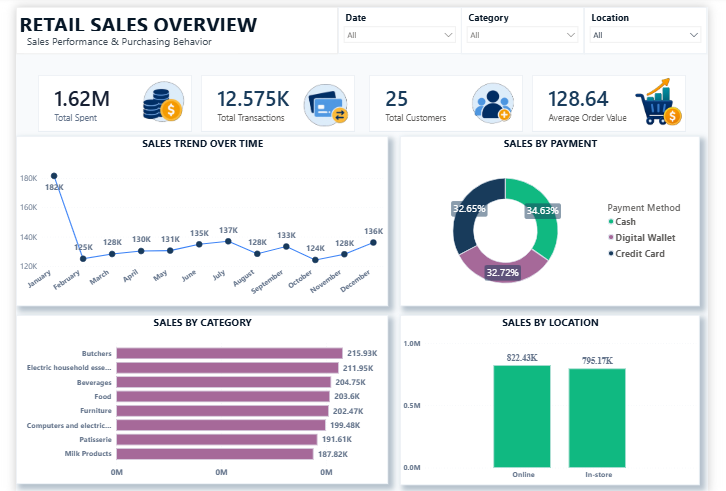

The dashboard page shown, as its layout file describes it:
{"tool":"powerbi","page":{"name":"Page 1","canvas":[1280,900],"ordinal":0},"visuals":[{"type":"cardVisual","fields":{"Data":["retail_cleaned.Total Spent Measure"]},"box":[40.7,125.9,285,105],"z":0},{"type":"cardVisual","fields":{"Data":["retail_cleaned.Total Transactions"]},"box":[342.6,125.9,285,105],"z":1000},{"type":"cardVisual","fields":{"Data":["retail_cleaned.Total Customers"]},"box":[653.7,125.9,285,105],"z":2000},{"type":"cardVisual","fields":{"Data":["retail_cleaned.Average Order Value"]},"box":[955.6,125.9,285,105],"z":3000},{"type":"lineChart","title":"SALES TREND OVER TIME","fields":{"Y":["retail_cleaned.Total Spent Measure"],"Category":["retail_cleaned.Transaction Date.Variation.Date Hierarchy.Month"]},"box":[0,238.3,689.4,314.9],"z":4000},{"type":"barChart","title":"SALES BY CATEGORY","fields":{"Category":["retail_cleaned.Category"],"Y":["Sum(retail_cleaned.Total Spent)"]},"box":[0,570.2,689.4,312.8],"z":5000},{"type":"donutChart","title":"SALES BY PAYMENT","fields":{"Y":["retail_cleaned.Total Spent Measure"],"Category":["retail_cleaned.Payment Method"]},"box":[710.6,238.3,555.3,314.9],"z":6000},{"type":"columnChart","title":"SALES BY LOCATION","fields":{"Category":["retail_cleaned.Location"],"Y":["retail_cleaned.Total Spent Measure"]},"box":[710.6,570.2,555.3,314.9],"z":7000},{"type":"textbox","box":[0,0,595.7,87.2],"z":8000},{"type":"textbox","box":[14.3,44.6,396.4,41.1],"z":9000},{"type":"slicer","title":"Date","fields":{"Values":["retail_cleaned.Transaction Date"]},"box":[596.2,0,228.8,86.5],"z":10000},{"type":"slicer","fields":{"Values":["retail_cleaned.Category"]},"box":[824.1,0,227.8,87],"z":11000},{"type":"slicer","fields":{"Values":["retail_cleaned.Location"]},"box":[1051.9,0,227.8,87],"z":12000},{"type":"image","box":[183.3,124.1,183.3,105.6],"z":13000},{"type":"image","box":[470.4,111.1,218.5,137],"z":14000},{"type":"image","box":[748.1,107.4,279.6,131.5],"z":15000},{"type":"image","box":[1127.8,101.9,127.8,155.6],"z":16000}]}

Visuals, with their boxes on the page's 1280x900 design canvas (x1, y1, x2, y2). These are canvas units, not pixel positions in the 726x491 screenshot, which may show the page scaled, cropped or inside an application window:
cardVisual - retail_cleaned.Total Spent Measure: {"left": 41, "top": 126, "right": 326, "bottom": 231}
cardVisual - retail_cleaned.Total Transactions: {"left": 343, "top": 126, "right": 628, "bottom": 231}
cardVisual - retail_cleaned.Total Customers: {"left": 654, "top": 126, "right": 939, "bottom": 231}
cardVisual - retail_cleaned.Average Order Value: {"left": 956, "top": 126, "right": 1241, "bottom": 231}
"SALES TREND OVER TIME" lineChart: {"left": 0, "top": 238, "right": 689, "bottom": 553}
"SALES BY CATEGORY" barChart: {"left": 0, "top": 570, "right": 689, "bottom": 883}
"SALES BY PAYMENT" donutChart: {"left": 711, "top": 238, "right": 1266, "bottom": 553}
"SALES BY LOCATION" columnChart: {"left": 711, "top": 570, "right": 1266, "bottom": 885}
textbox: {"left": 0, "top": 0, "right": 596, "bottom": 87}
textbox: {"left": 14, "top": 45, "right": 411, "bottom": 86}
"Date" slicer: {"left": 596, "top": 0, "right": 825, "bottom": 86}
slicer - retail_cleaned.Category: {"left": 824, "top": 0, "right": 1052, "bottom": 87}
slicer - retail_cleaned.Location: {"left": 1052, "top": 0, "right": 1280, "bottom": 87}
image: {"left": 183, "top": 124, "right": 367, "bottom": 230}
image: {"left": 470, "top": 111, "right": 689, "bottom": 248}
image: {"left": 748, "top": 107, "right": 1028, "bottom": 239}
image: {"left": 1128, "top": 102, "right": 1256, "bottom": 258}
